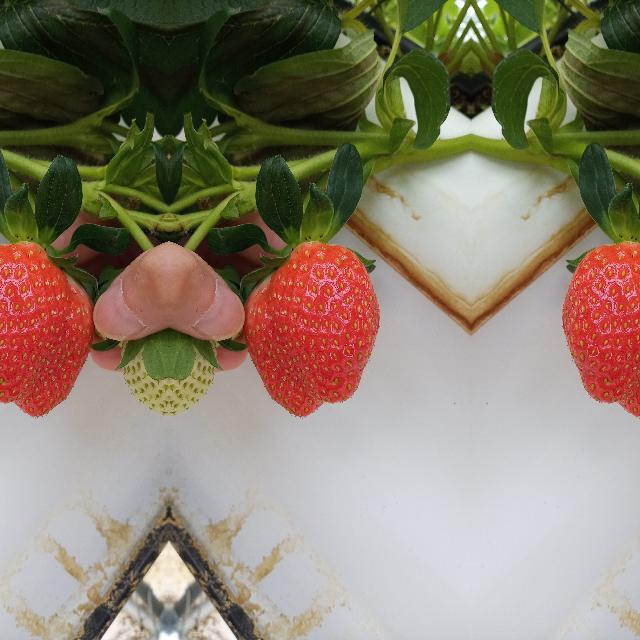Health_100: (241, 241, 379, 419), (0, 241, 95, 419), (562, 241, 640, 419)
Health_25: (168, 327, 216, 427), (120, 327, 168, 427)
